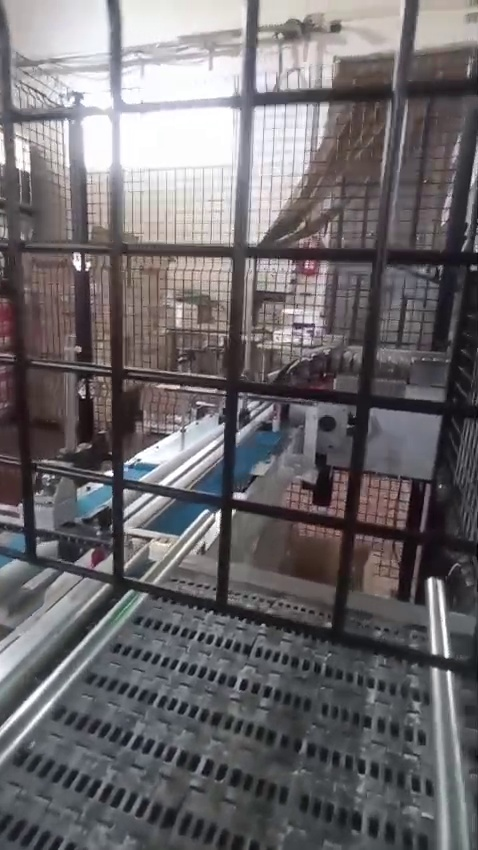savon: (127, 260, 158, 305), (320, 550, 340, 586), (160, 330, 172, 368), (353, 576, 378, 592), (95, 321, 111, 346), (102, 380, 111, 416), (337, 146, 360, 160), (145, 320, 160, 336)
